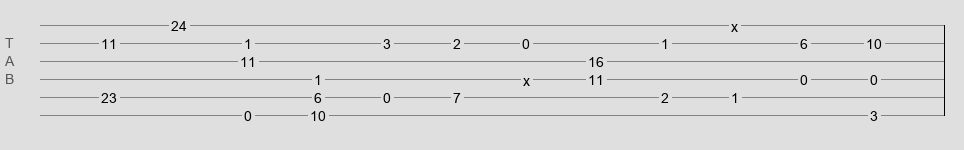0: (244, 108, 252, 118), (383, 90, 391, 100), (522, 36, 530, 46), (800, 72, 808, 82), (870, 72, 878, 82)
1: (244, 36, 252, 46), (314, 72, 322, 82), (661, 36, 669, 46), (731, 90, 739, 100)
10: (310, 108, 326, 118), (866, 36, 882, 46)
11: (101, 36, 117, 46), (240, 54, 256, 64), (588, 72, 604, 82)
16: (588, 54, 604, 64)
2: (453, 36, 461, 46), (661, 90, 669, 100)
23: (101, 90, 117, 100)
24: (171, 18, 187, 28)
3: (383, 36, 391, 46), (870, 108, 878, 118)
6: (314, 90, 322, 100), (800, 36, 808, 46)
7: (453, 90, 461, 100)
x: (523, 73, 530, 81), (731, 19, 738, 27)
